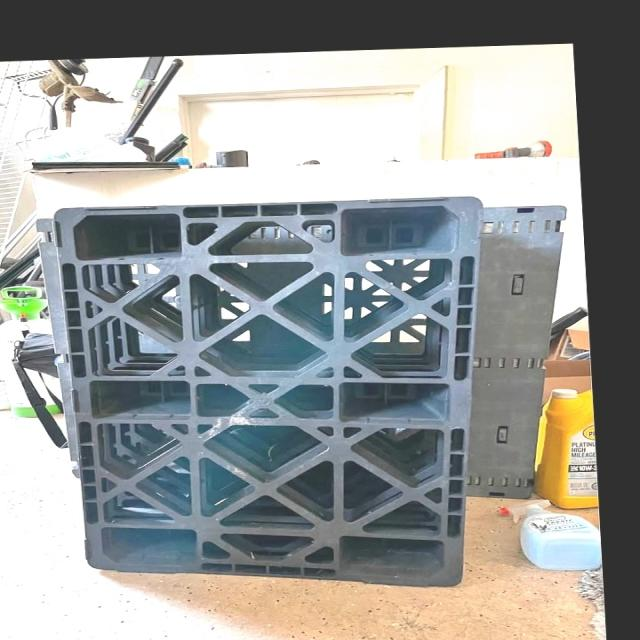non-igps: (45, 191, 492, 592), (460, 202, 580, 503)
